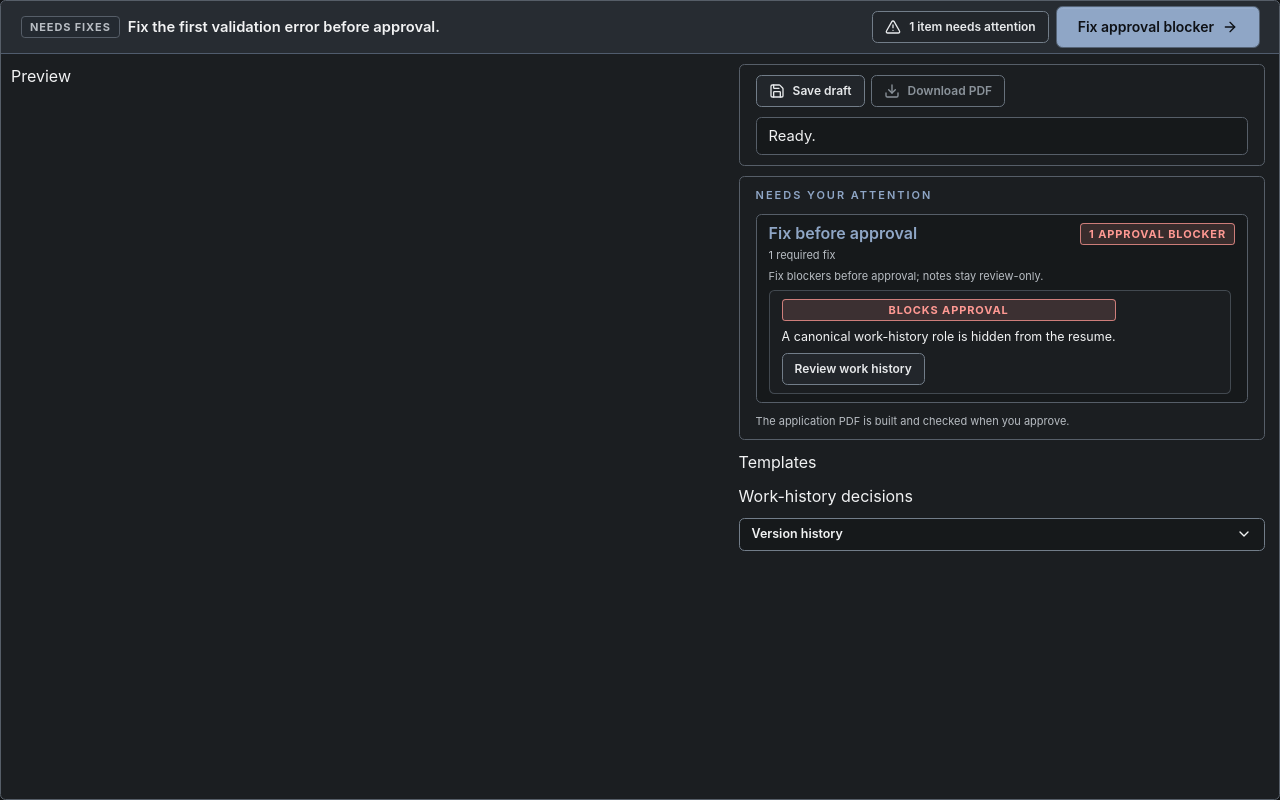
it: ResumeWorkspaceStudioShell › routes work-history review to the decisions panel and clears field selection
Click the button named "Review work history: A canonical work-history role is hidden from the resume.": (853, 369) [782,353,925,385]
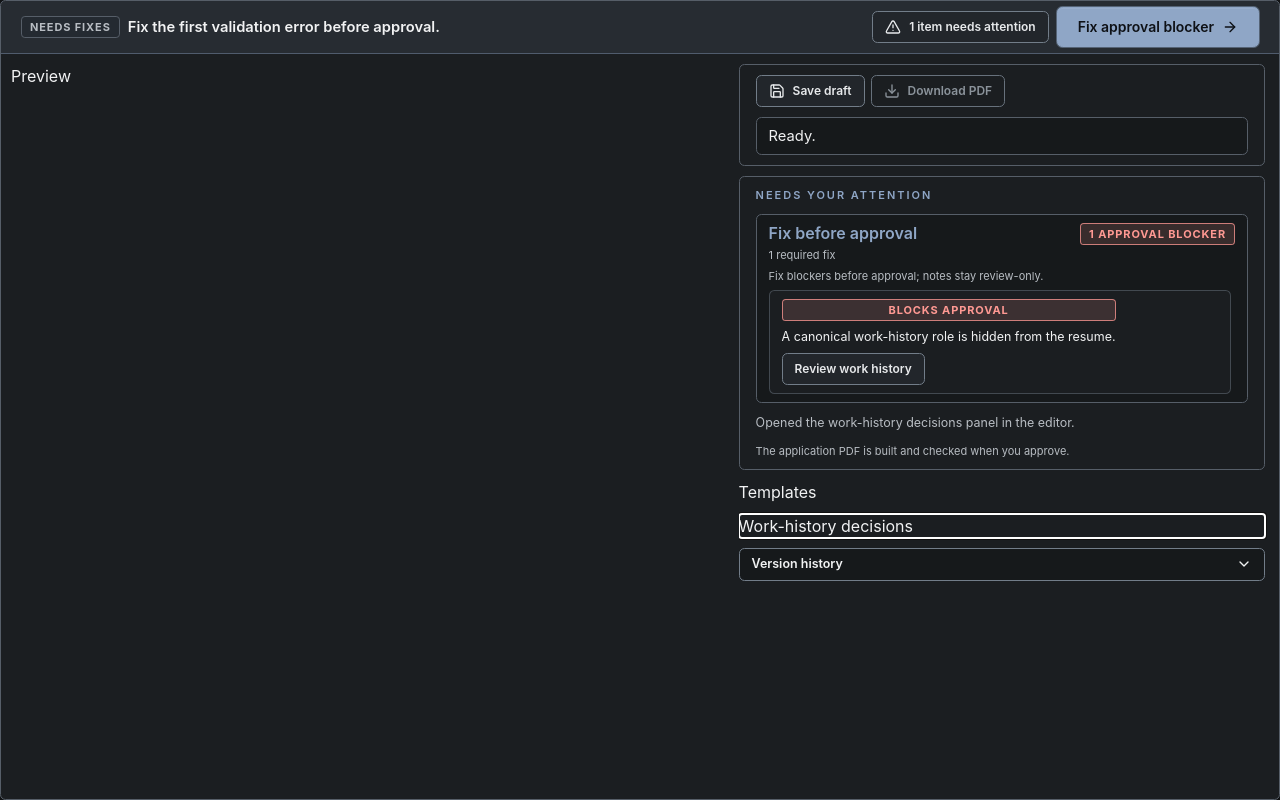
Check: the text "Opened the work-history decisions panel in the editor." is shown, box [756,415,1075,430]
